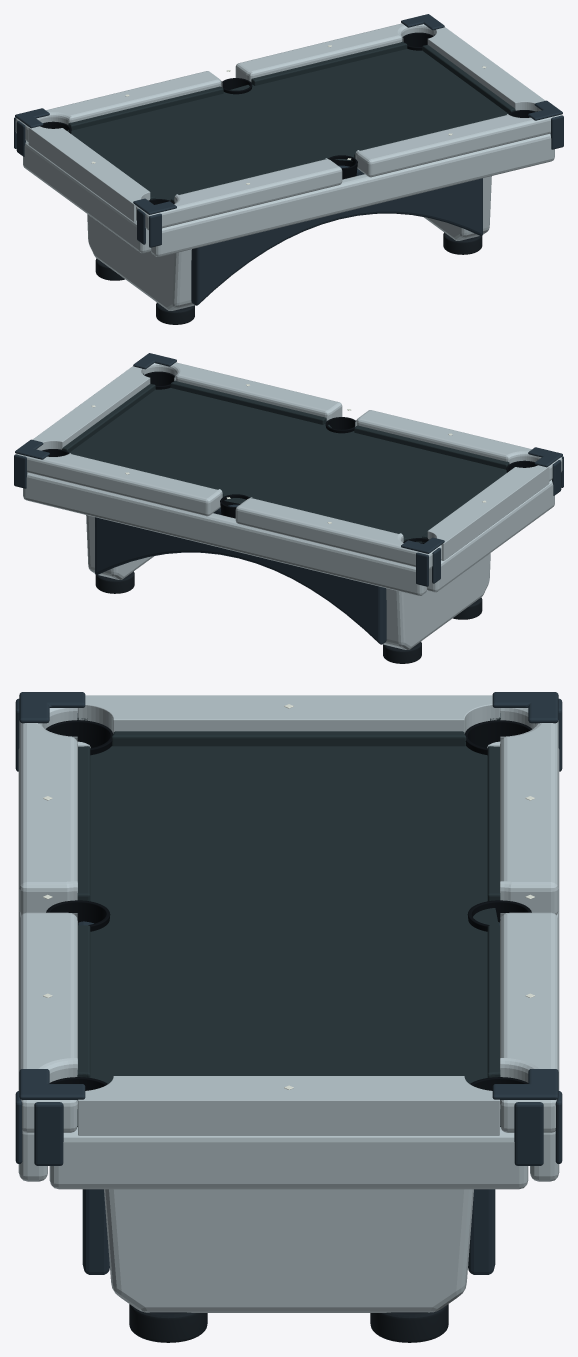
The model's file is mesa_billar.fbx.
3 views of the same model, one above another, from view 1: azimuth 30°, elevation 25°; view 2: azimuth 150°, elevation 25°; view 3: azimuth 270°, elevation 25° (orthographic). The views are drawn at different scales.
Parts seen in each view (by area): view 1: Mesa_Plata, Mesa_Tapete, Mesa_Azul, Mesa_Troneras, Mesa_Pies; view 2: Mesa_Plata, Mesa_Tapete, Mesa_Azul, Mesa_Troneras, Mesa_Pies; view 3: Mesa_Plata, Mesa_Tapete, Mesa_Azul, Mesa_Troneras, Mesa_Pies.
Boxes of the visible parts, box(x1,y1,x2,y2) form: Mesa_Plata: box(15, 23, 561, 310); Mesa_Tapete: box(67, 34, 537, 202); Mesa_Azul: box(14, 14, 563, 305); Mesa_Troneras: box(40, 32, 535, 204); Mesa_Pies: box(95, 232, 482, 324); Mesa_Plata: box(16, 362, 562, 649); Mesa_Tapete: box(62, 373, 509, 542); Mesa_Azul: box(14, 353, 563, 644); Mesa_Troneras: box(42, 371, 537, 543); Mesa_Pies: box(95, 571, 482, 663); Mesa_Plata: box(18, 695, 559, 1312); Mesa_Tapete: box(77, 713, 500, 1126); Mesa_Azul: box(15, 692, 562, 1274); Mesa_Troneras: box(45, 720, 532, 1090); Mesa_Pies: box(129, 1304, 448, 1342).
Size of the model in its own units: 2.56 by 0.861 by 1.45.
